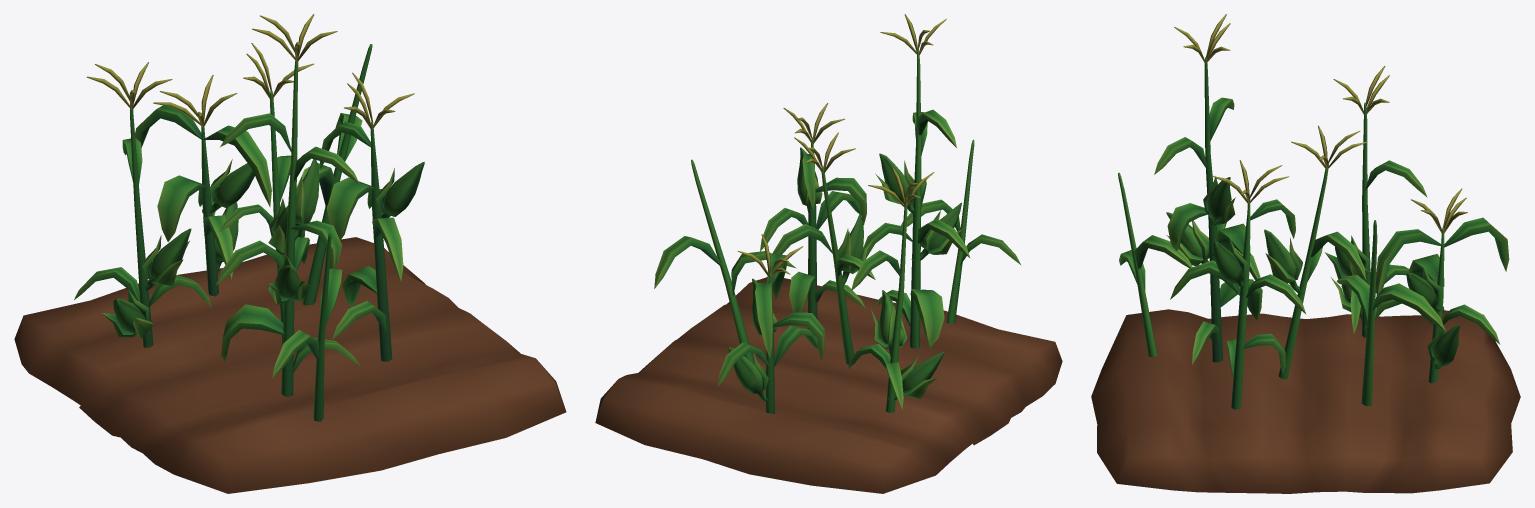
File: SM_PlantSoil_Corn_Lv3.fbx
3 views of the same model, side by side, from view 1: azimuth 30°, elevation 25°; view 2: azimuth 150°, elevation 25°; view 3: azimuth 270°, elevation 25° (orthographic). The views are drawn at different scales.
Parts seen in each view (by area): view 1: SM_PlantSoil_Corn_Lv3; view 2: SM_PlantSoil_Corn_Lv3; view 3: SM_PlantSoil_Corn_Lv3.
Part boxes in pixels (bbox=[...]): SM_PlantSoil_Corn_Lv3: bbox=[14, 14, 566, 493]; SM_PlantSoil_Corn_Lv3: bbox=[595, 14, 1062, 493]; SM_PlantSoil_Corn_Lv3: bbox=[1091, 14, 1520, 493].
Size of the model in its own units: 96.14 by 101 by 103.
